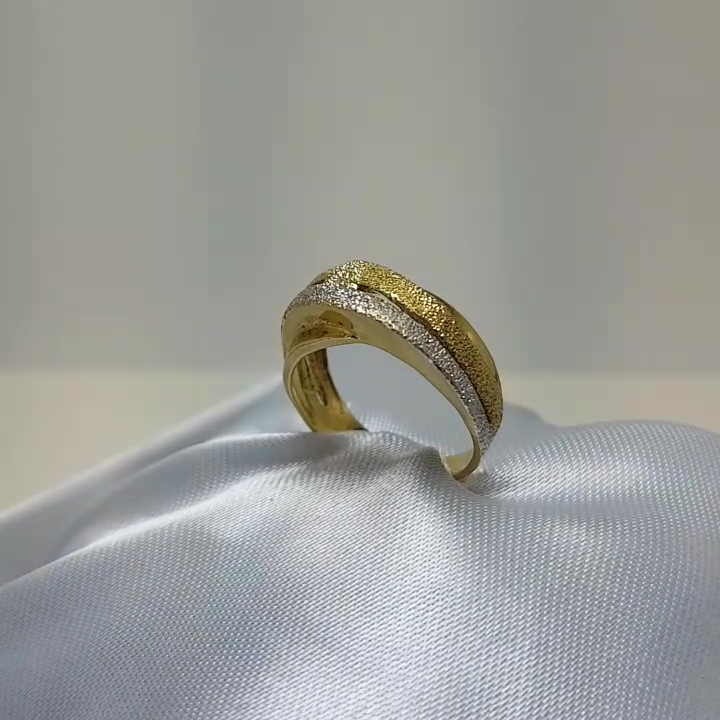Ring 5: (257, 225, 512, 514)
